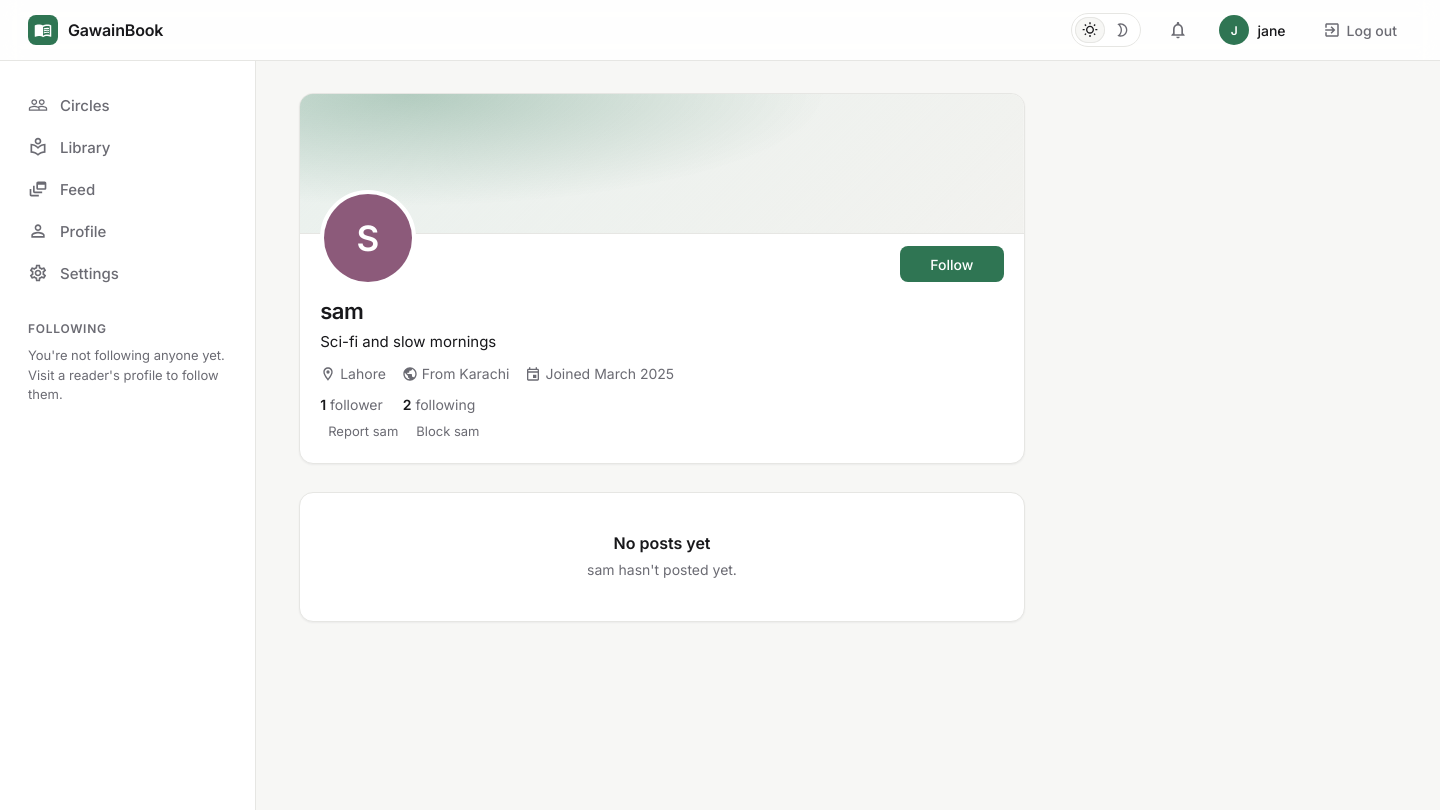
Scenario: following a reader updates the button, count and app state
The image size is (1440, 810).
Click the button "Follow".
click(952, 264)  # box x1=900 y1=246 x2=1004 y2=282
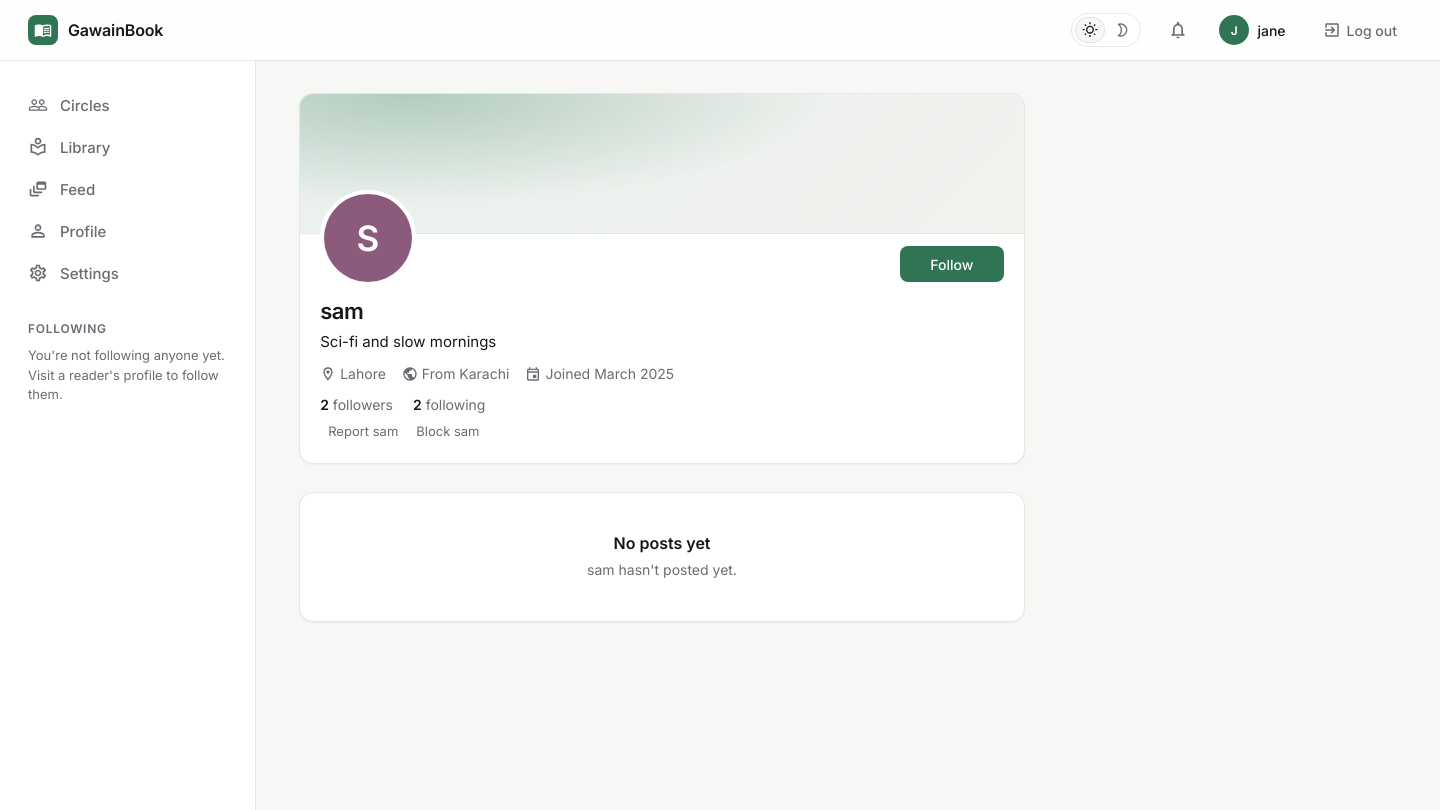
Result: the text "2 followers" is shown at x1=320 y1=396 x2=393 y2=413
